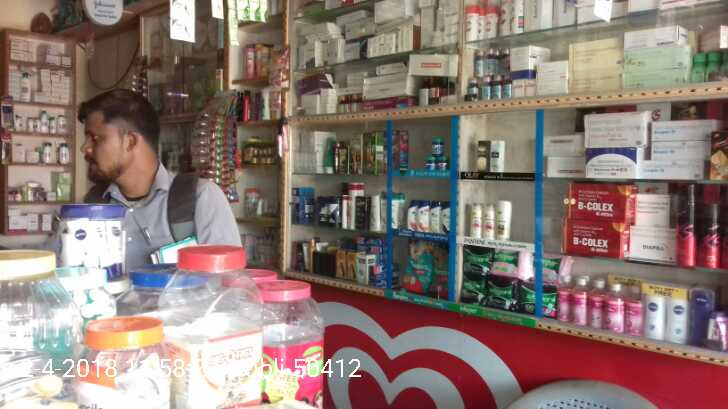vicks: (432, 136, 445, 155), (437, 157, 448, 170), (425, 157, 435, 170)
